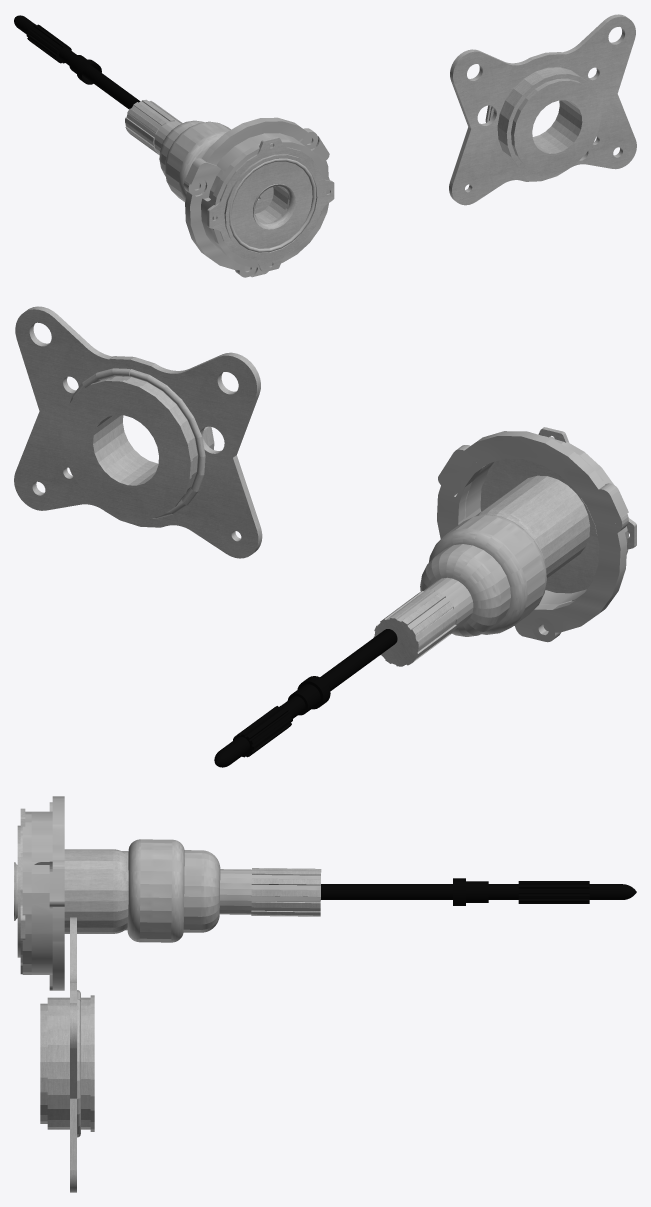
3 views of the same model, one above another, from view 1: azimuth 30°, elevation 25°; view 2: azimuth 150°, elevation 25°; view 3: azimuth 270°, elevation 25° (orthographic). The views are drawn at different scales.
Visible parts, largest first — view 1: 1.008, slongsong, 1.001, 1.003; view 2: 1.008, 1.003, slongsong, 1.001; view 3: 1.003, slongsong, 1.008, 1.001.
Part boxes in pixels (x1,y1,x2,y2): 1.008: [449, 14, 636, 205]; slongsong: [14, 15, 334, 272]; 1.001: [183, 117, 330, 277]; 1.003: [125, 99, 230, 201]; 1.008: [14, 306, 262, 558]; 1.003: [373, 514, 546, 666]; slongsong: [214, 427, 636, 767]; 1.001: [437, 431, 628, 642]; 1.003: [122, 839, 321, 942]; slongsong: [14, 808, 636, 974]; 1.008: [40, 917, 94, 1192]; 1.001: [22, 796, 64, 990].
Size of the model in its own units: 936 by 321 by 921.
13 materials, 8 textured.
